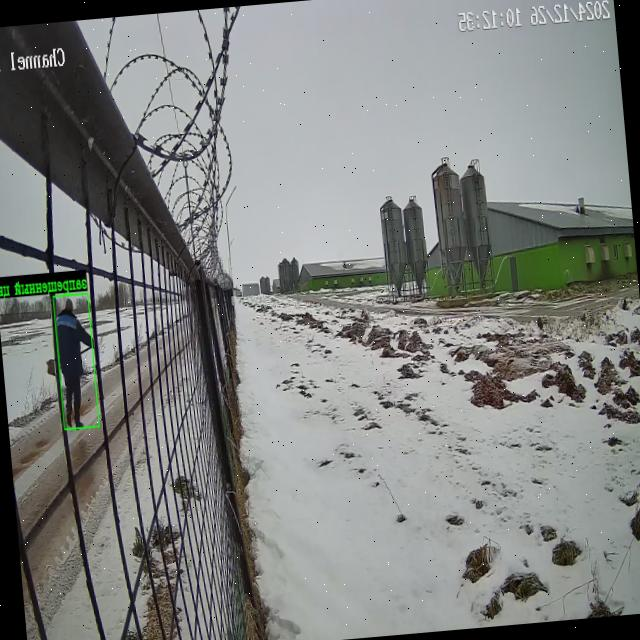Person: (56, 299, 91, 426)
